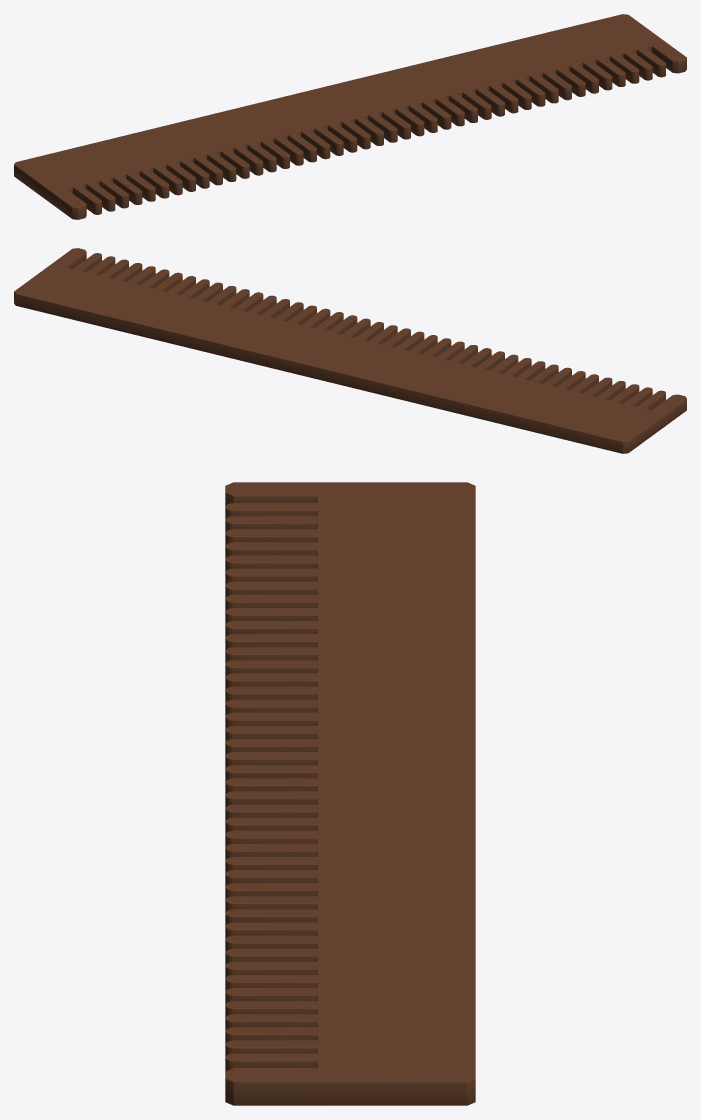
Rendered from comb.glb.
3 views of the same model, one above another, from view 1: azimuth 30°, elevation 25°; view 2: azimuth 150°, elevation 25°; view 3: azimuth 270°, elevation 25° (orthographic). The views are drawn at different scales.
Visible parts, largest first — view 1: comb; view 2: comb; view 3: comb.
Part boxes in pixels (x1,y1,x2,y2): comb: (14,14,686,219); comb: (14,248,686,453); comb: (225,482,475,1105).
Size of the model in its own units: 0.17 by 0.0032 by 0.03.
